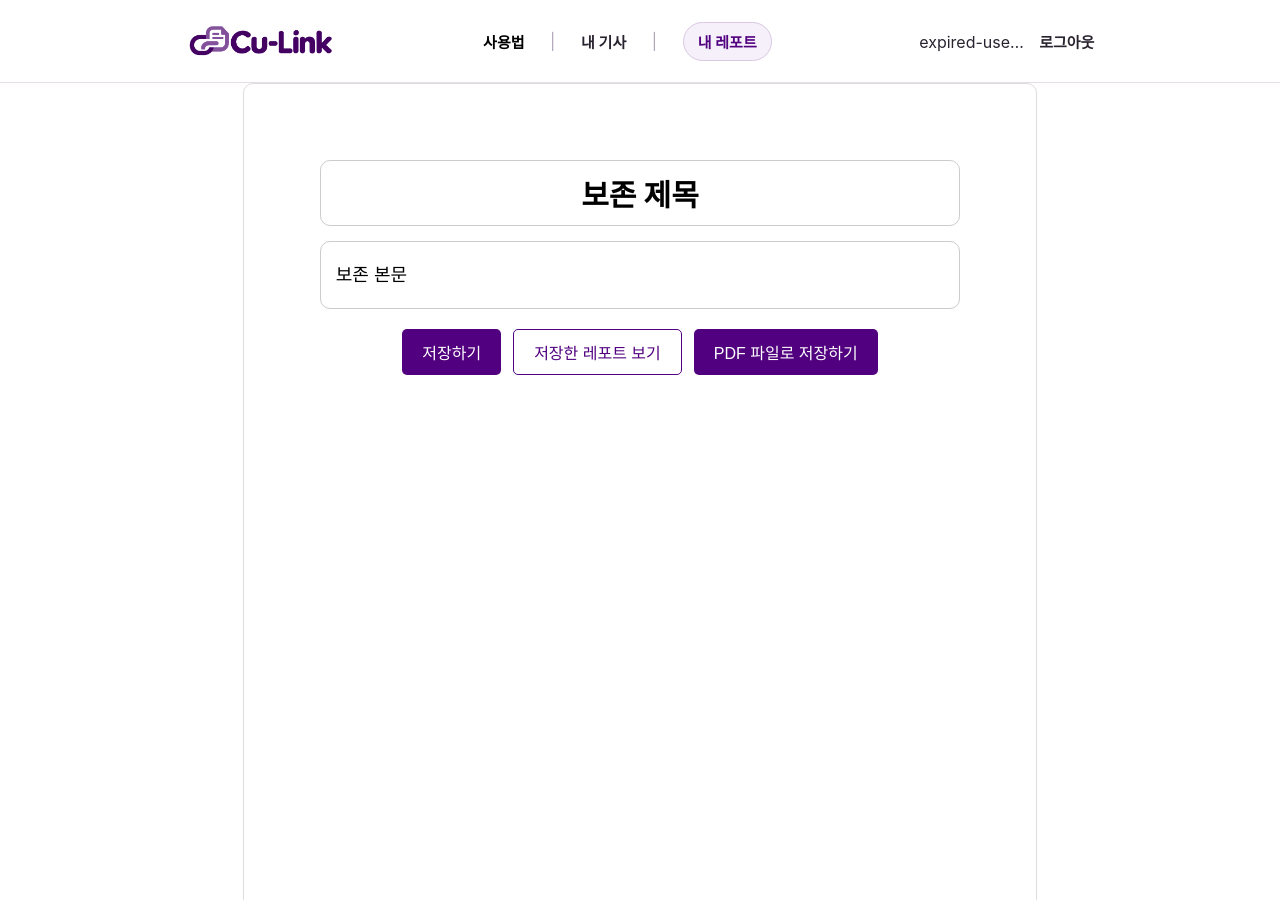
Test: an expired save keeps the report while switching back to the guest UI
This screenshot has width=1280, height=900.
Click the button "저장하기".
click(452, 352)  # box [402,329,501,375]
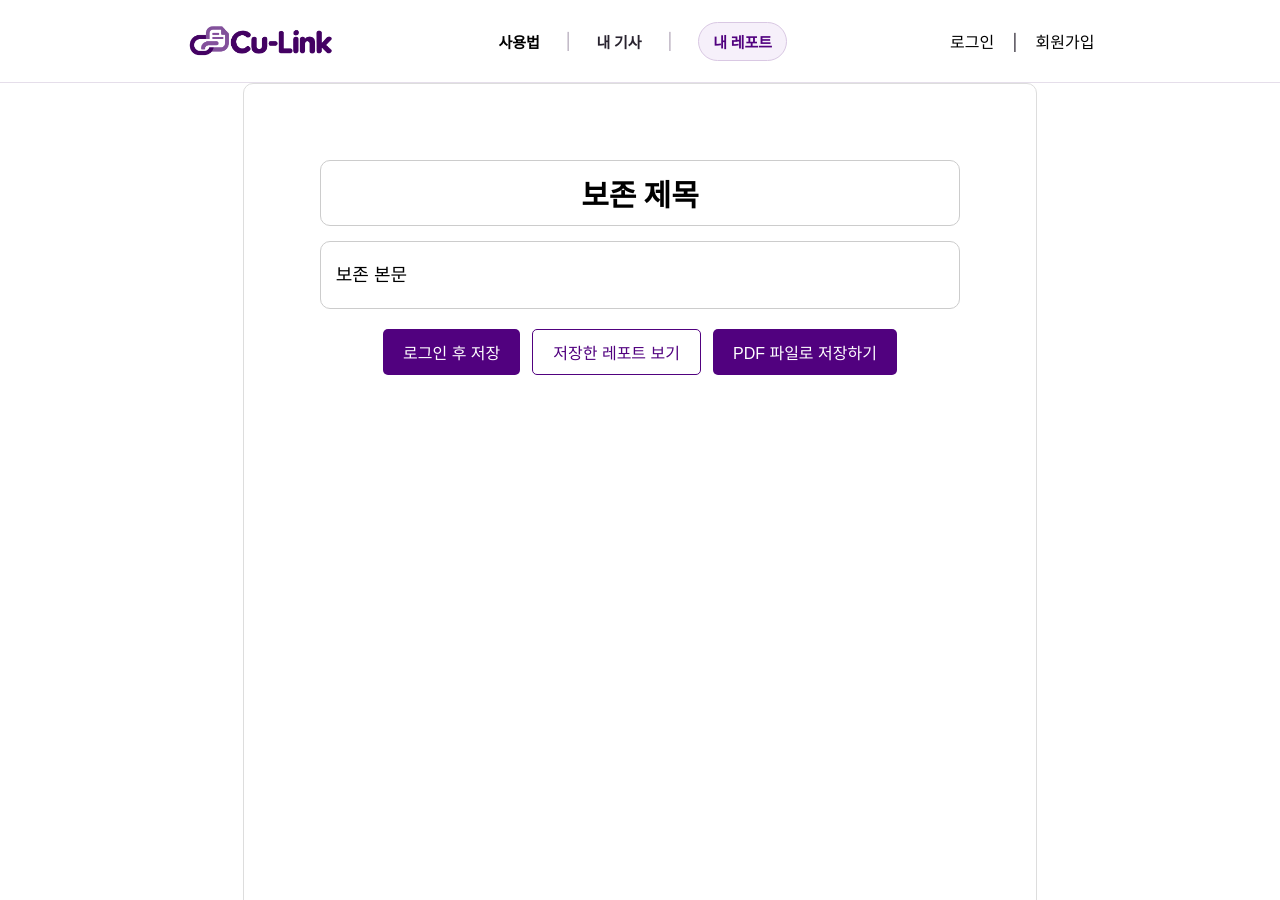
Expected: the text "보존 본문" is shown, [336,264,407,285]
Expected: the link "로그인" is shown, [950,32,999,52]
